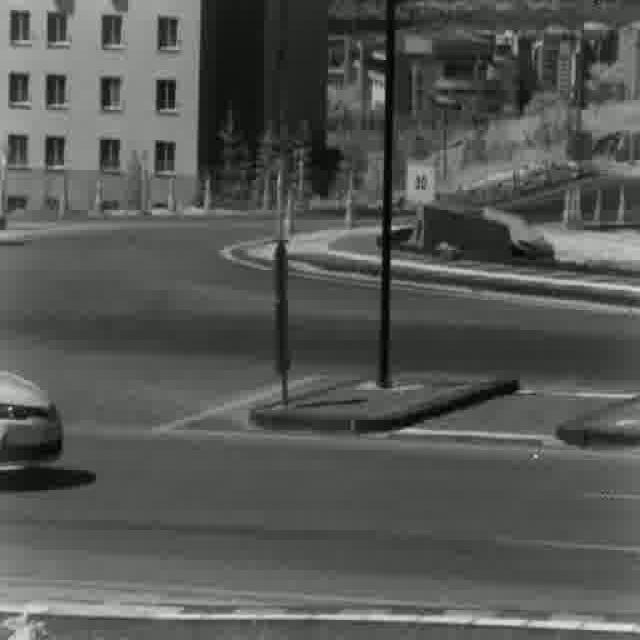Car: (0, 374, 63, 486)
